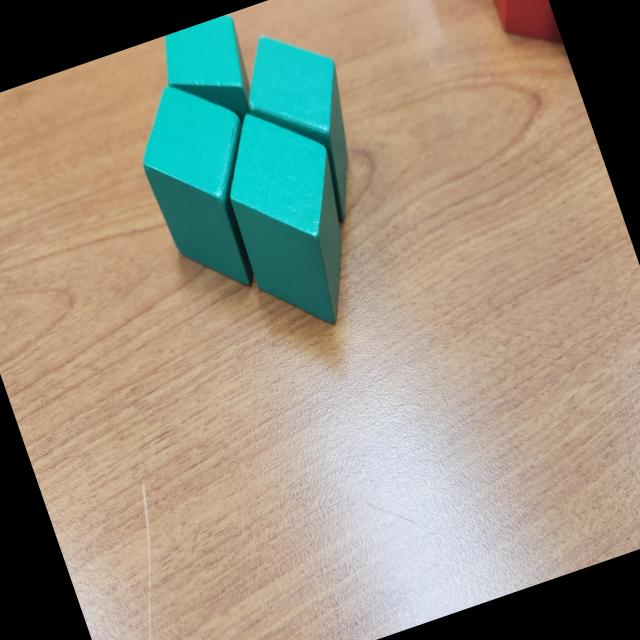green: (202, 93, 380, 345), (120, 64, 294, 308), (228, 15, 386, 239), (152, 11, 270, 144)
red: (468, 0, 564, 64)
